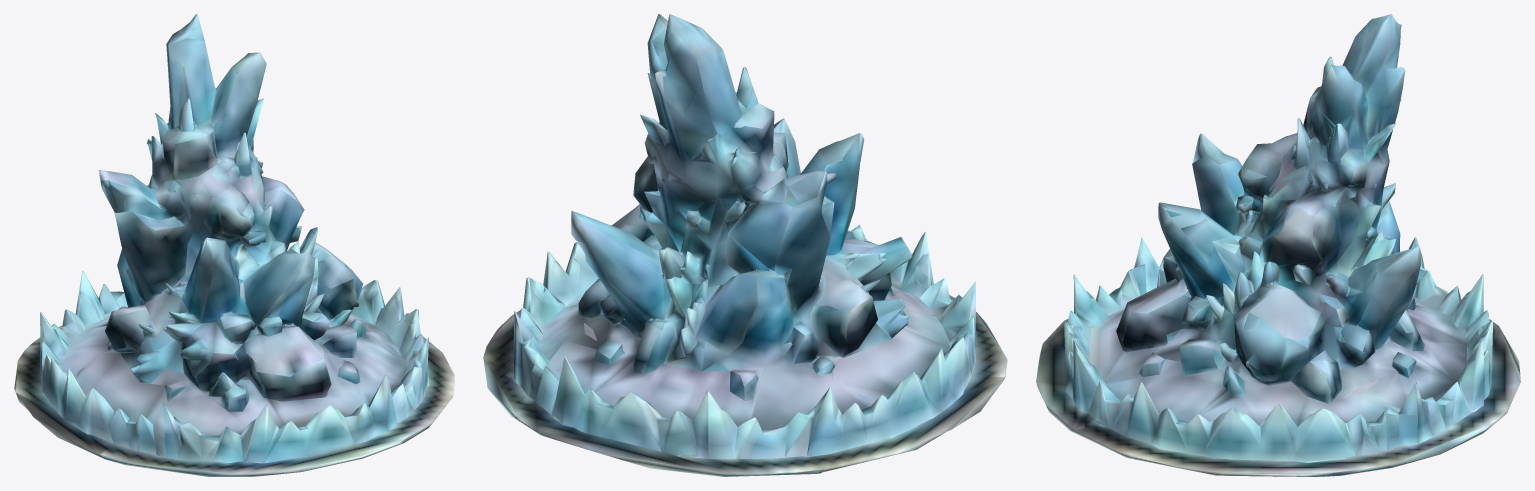
File: avalanche-mound.glb
3 renders of one model, left to right at view 1: azimuth 30°, elevation 25°; view 2: azimuth 150°, elevation 25°; view 3: azimuth 270°, elevation 25°, orthographic. The views are drawn at different scales.
Parts seen in each view (by area): view 1: Mesh_0; view 2: Mesh_0; view 3: Mesh_0.
Part boxes in pixels (<box>): Mesh_0: <box>14,14,454,476</box>; Mesh_0: <box>483,14,1007,476</box>; Mesh_0: <box>1036,14,1520,476</box>.
Size of the model in its own units: 1.89 by 1.6 by 1.89.
1 material, 1 textured.
